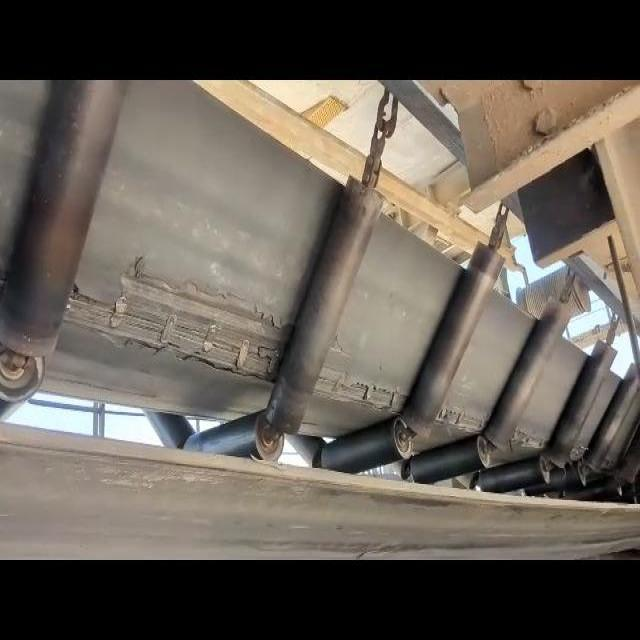Tear: (55, 248, 292, 384), (316, 359, 411, 416), (440, 400, 485, 437)
